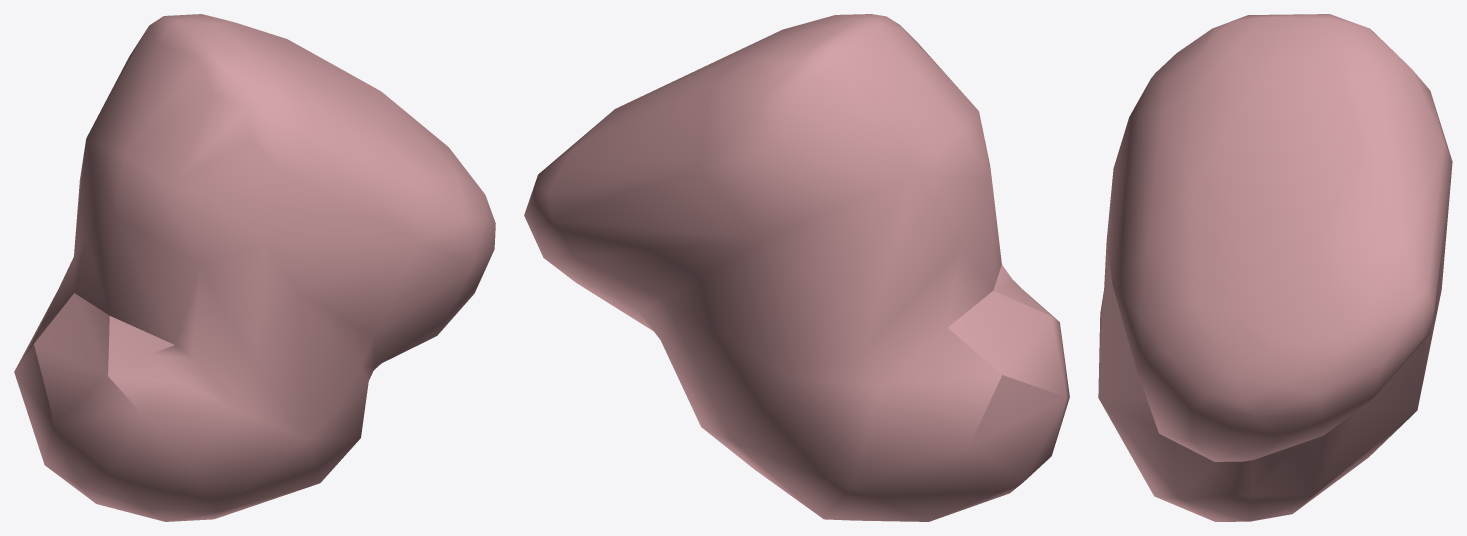
Rendered from fma14966_fj2595.glb.
3 renders of one model, left to right at view 1: azimuth 30°, elevation 25°; view 2: azimuth 150°, elevation 25°; view 3: azimuth 270°, elevation 25°, orthographic. The views are drawn at different scales.
Visible parts, largest first — view 1: FMA14966_FJ2595; view 2: FMA14966_FJ2595; view 3: FMA14966_FJ2595.
Boxes of the visible parts, x1,y1,x2,y2 form: FMA14966_FJ2595: [14, 14, 495, 521]; FMA14966_FJ2595: [524, 14, 1069, 521]; FMA14966_FJ2595: [1098, 14, 1452, 521].
Size of the model in its own units: 0.0335 by 0.0319 by 0.0214.
